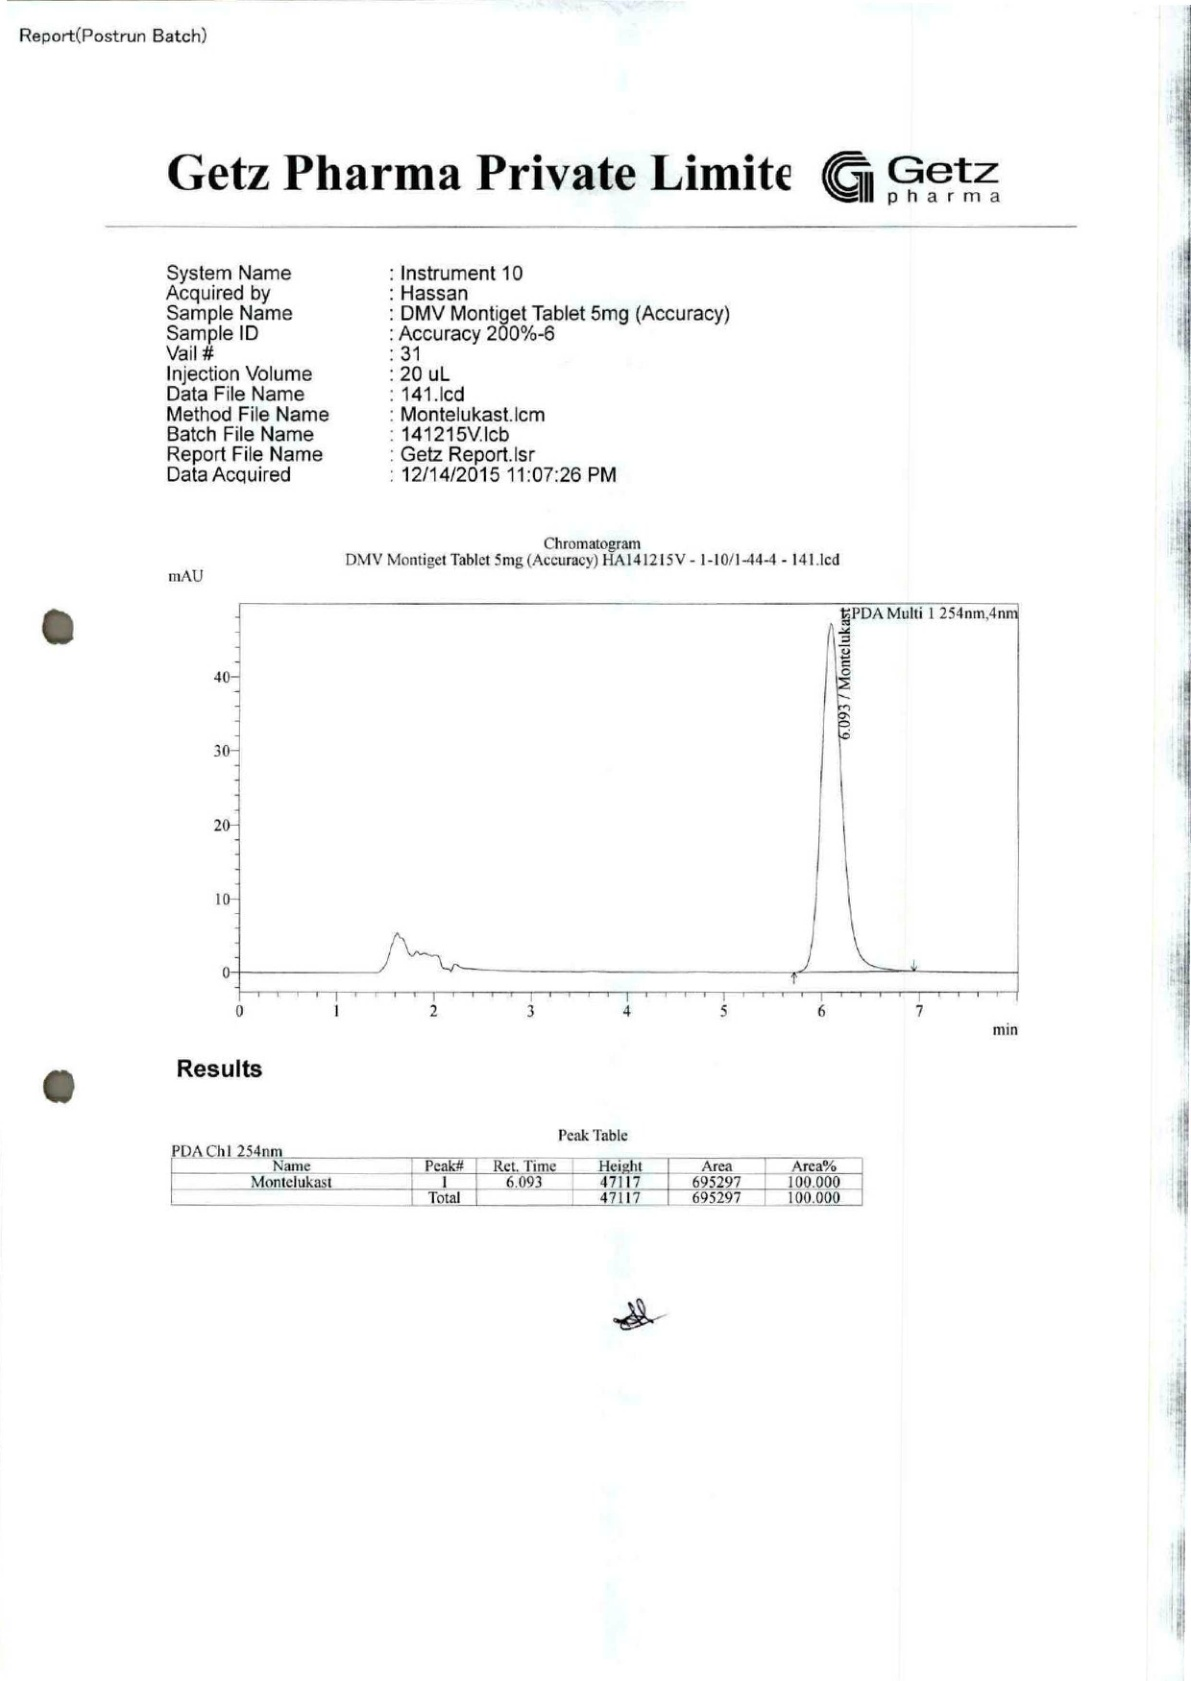full_lined: (166, 1154, 876, 1214)
nolines: (144, 249, 780, 510)
